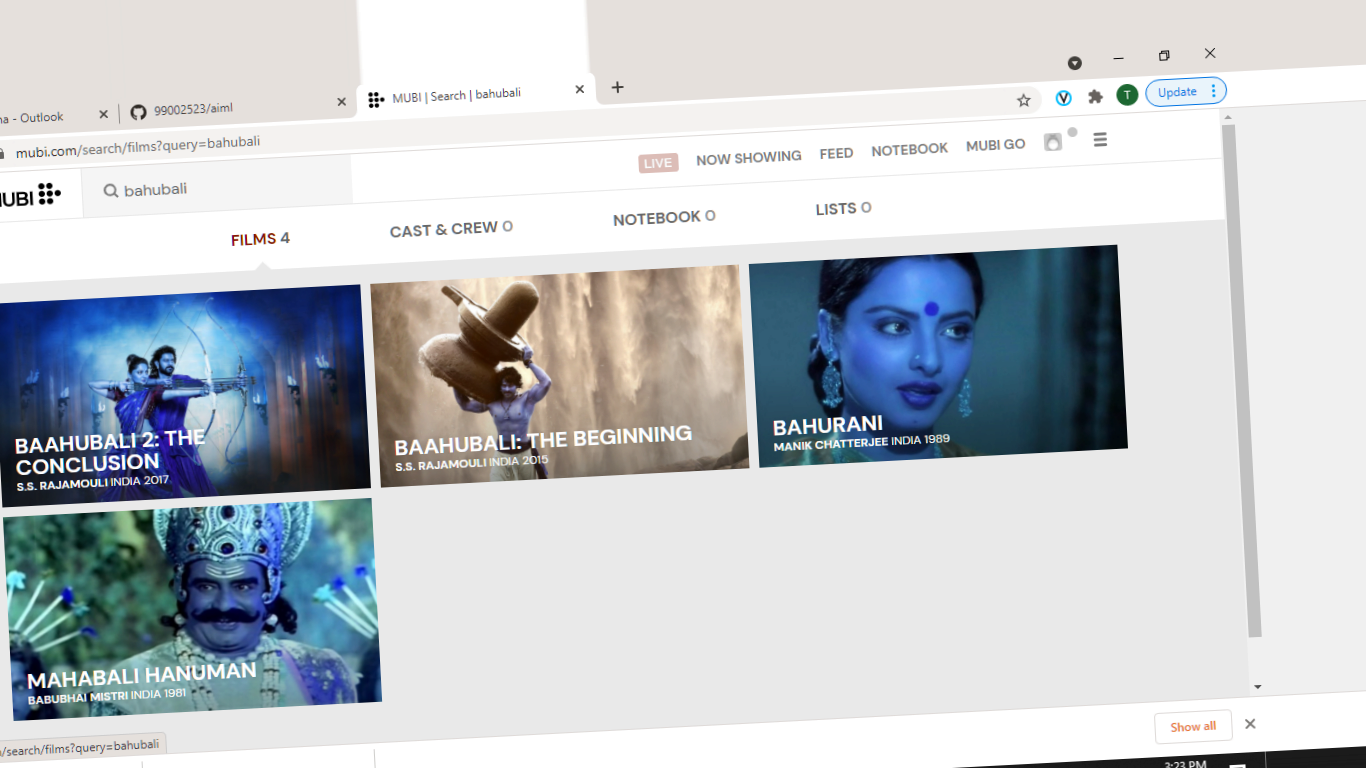profileicon: (1035, 123, 1079, 159)
searchicon: (93, 172, 120, 207)
searchtextbox: (78, 160, 355, 211)
